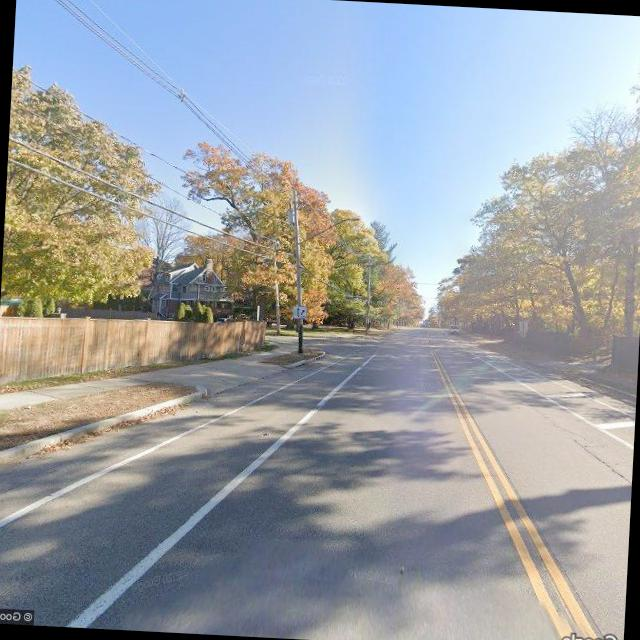pothole: (536, 411, 636, 512)
